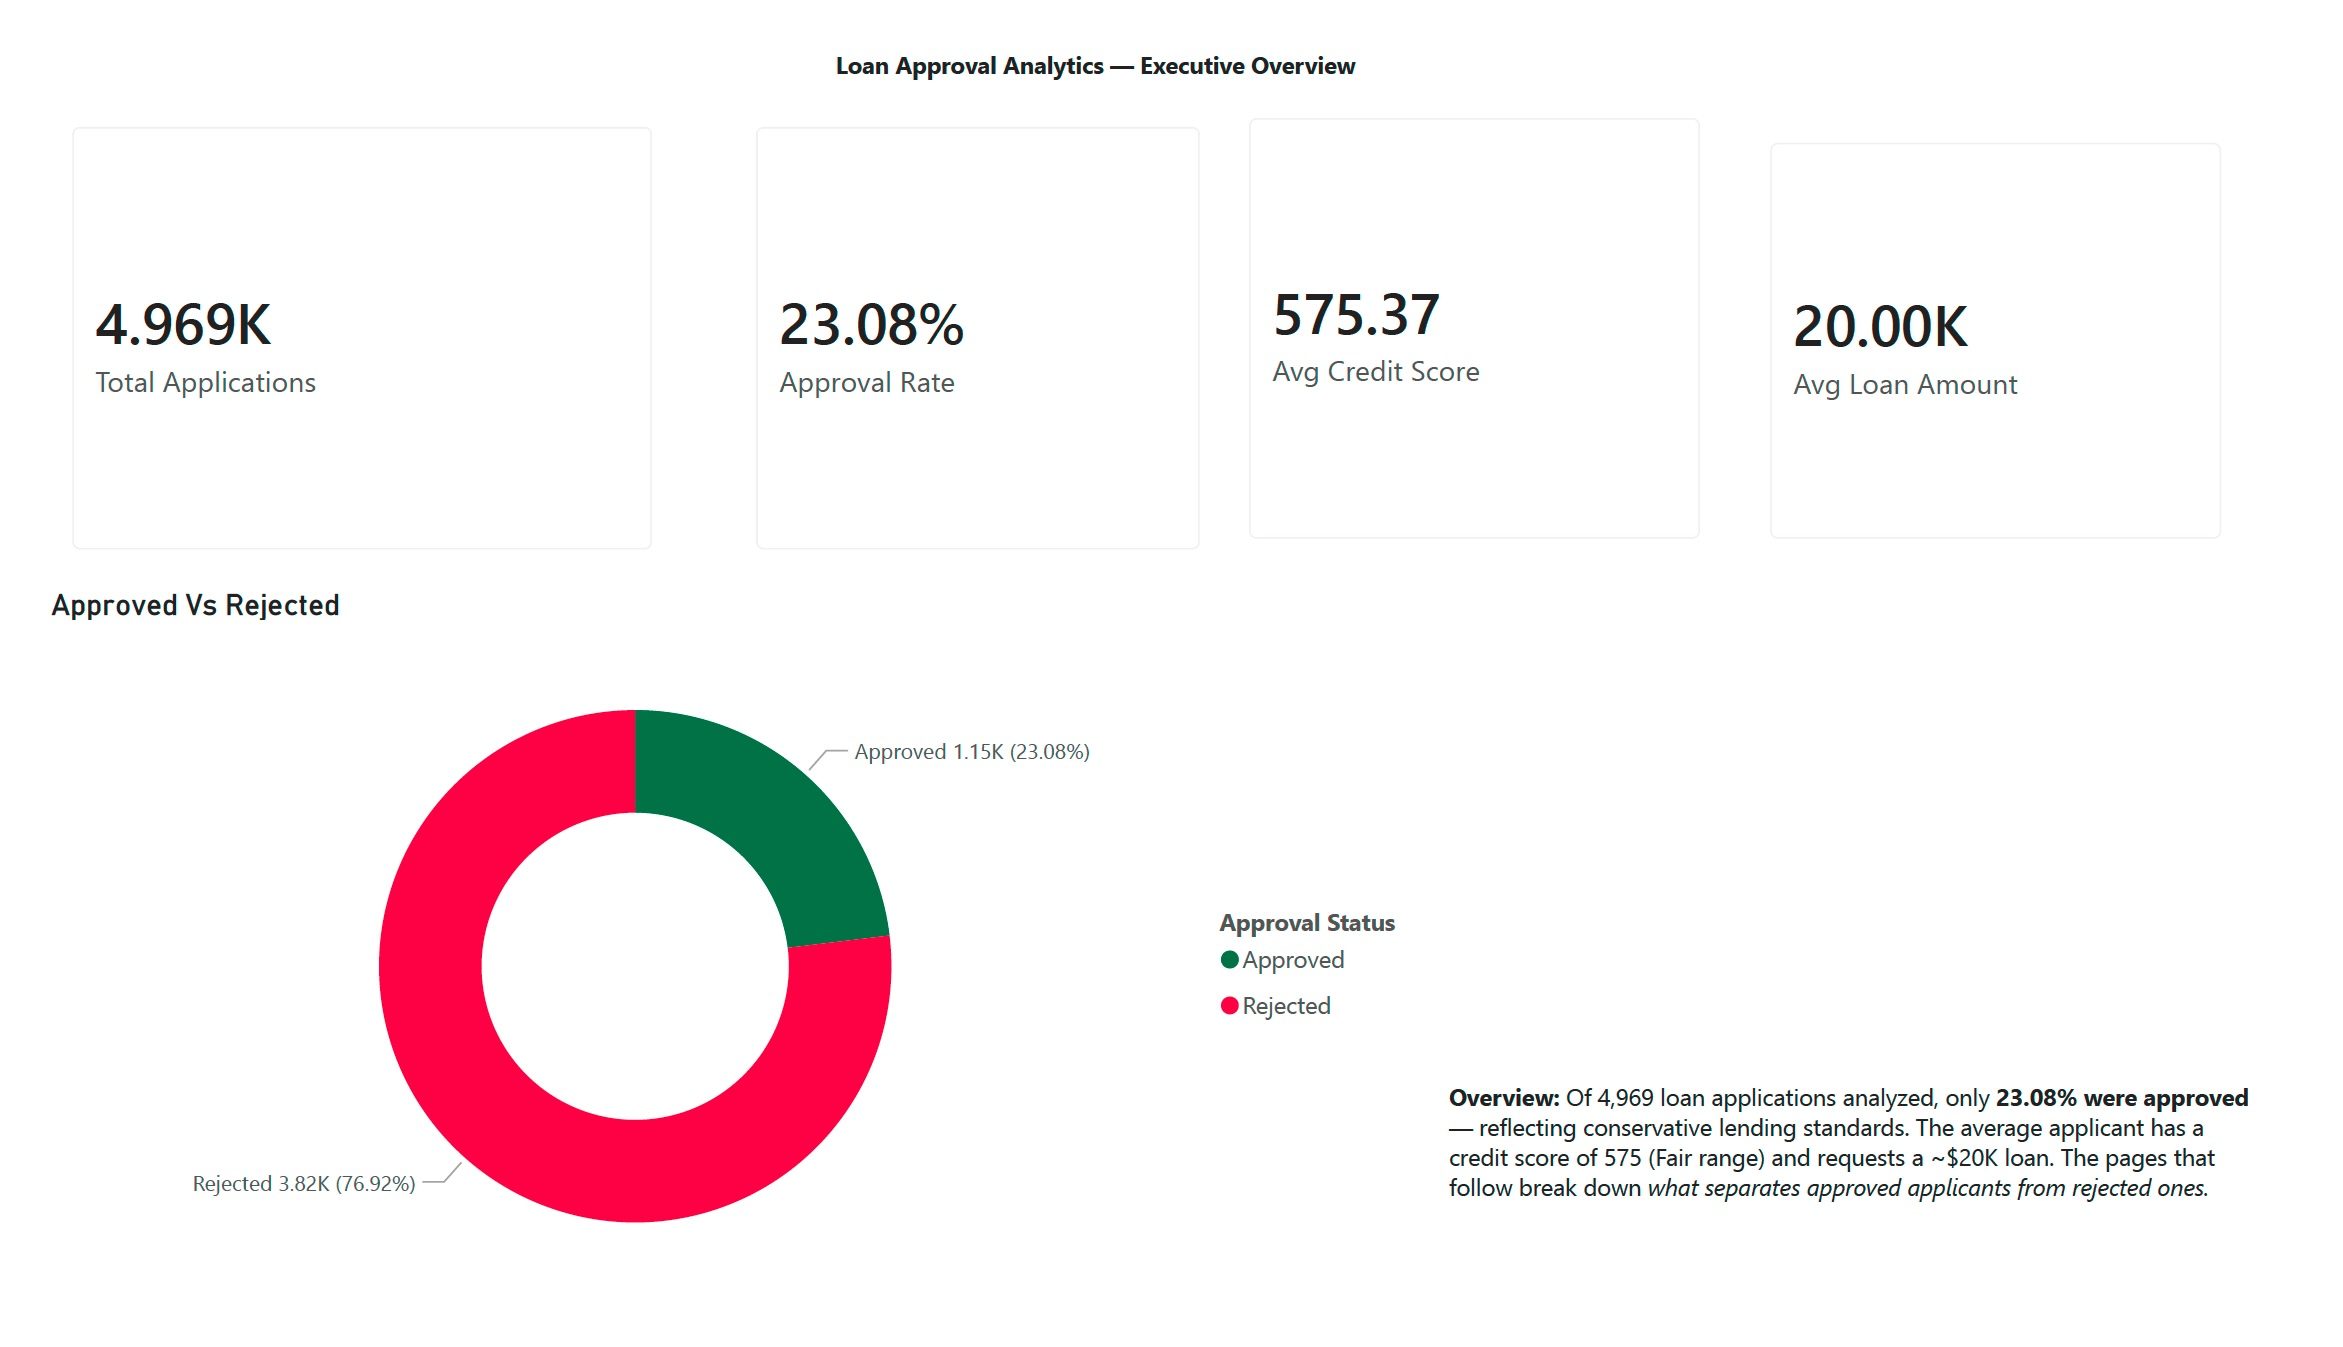

The dashboard page shown, as its layout file describes it:
{"tool":"powerbi","page":{"name":"Loan Approval Analytics","canvas":[1280,720],"ordinal":0},"visuals":[{"type":"cardVisual","fields":{"Data":["Avg(loan_clean.LoanApproved)"]},"box":[387.2,32.2,285.2,272.8],"z":1},{"type":"cardVisual","fields":{"Data":["Avg(loan_clean.LoanAmount)"]},"box":[961.2,41.4,288.9,257.9],"z":2},{"type":"cardVisual","fields":{"Data":["Avg(loan_clean.CreditScore)"]},"box":[666.2,26.6,288.9,272.8],"z":3},{"type":"cardVisual","fields":{"Data":["CountNonNull(loan_clean.LoanApproved)"]},"box":[0,32.2,362.5,272.8],"z":4},{"type":"donutChart","title":"Approved Vs Rejected","fields":{"Y":["CountNonNull(loan_clean.LoanApproved)"],"Category":["loan_clean.Approval Status"]},"box":[0,309.3,786.2,410.7],"z":5},{"type":"textbox","box":[443.5,0,409.5,32.2],"z":6},{"type":"textbox","box":[790.5,583.9,474.4,136.1],"z":7}]}

Visuals, with their boxes in screenshot pixels (x1, y1, x2, y2), scaled from the page's 1280x720 canvas onto the 2343x1347 screenshot:
cardVisual - Avg(loan_clean.LoanApproved): {"x1": 709, "y1": 60, "x2": 1231, "y2": 571}
cardVisual - Avg(loan_clean.LoanAmount): {"x1": 1759, "y1": 77, "x2": 2288, "y2": 560}
cardVisual - Avg(loan_clean.CreditScore): {"x1": 1219, "y1": 50, "x2": 1748, "y2": 560}
cardVisual - CountNonNull(loan_clean.LoanApproved): {"x1": 0, "y1": 60, "x2": 664, "y2": 571}
"Approved Vs Rejected" donutChart: {"x1": 0, "y1": 579, "x2": 1439, "y2": 1346}
textbox: {"x1": 812, "y1": 0, "x2": 1561, "y2": 60}
textbox: {"x1": 1447, "y1": 1092, "x2": 2315, "y2": 1346}
